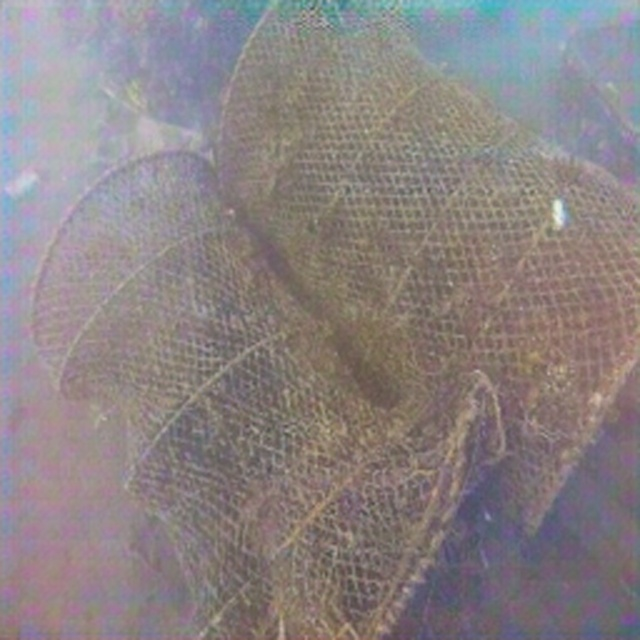mine: (216, 0, 639, 540), (28, 148, 469, 639)
